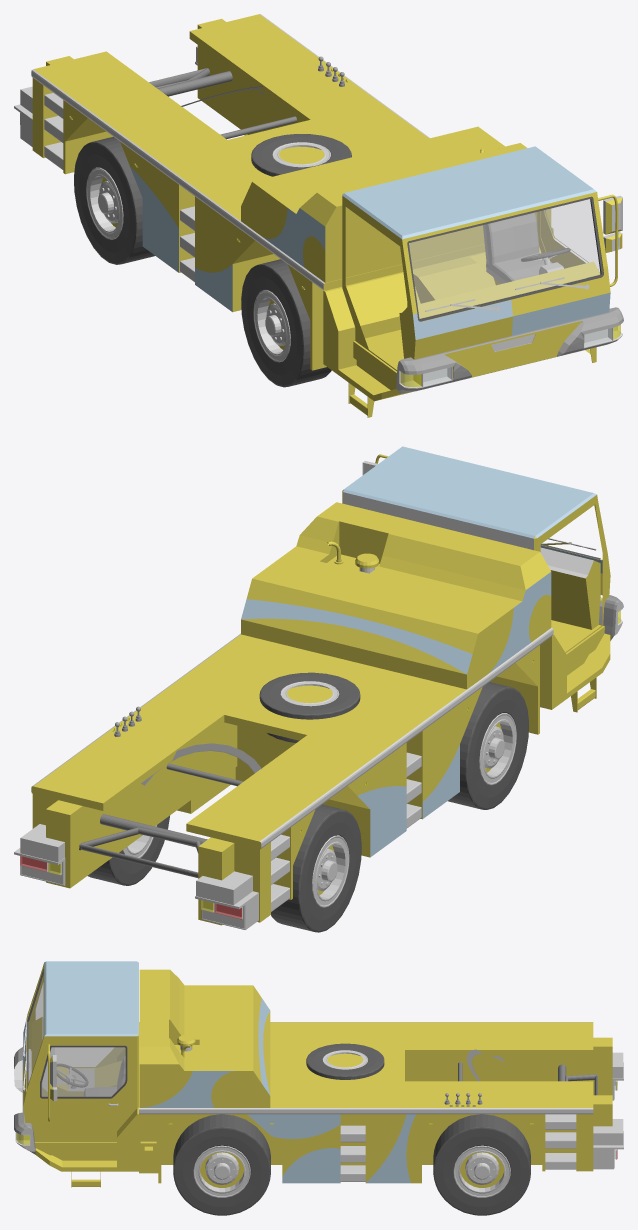
The model's file is tug.glb.
The picture shows the model from 3 angles, top to bottom: view 1: azimuth 30°, elevation 25°; view 2: azimuth 150°, elevation 25°; view 3: azimuth 270°, elevation 25°; orthographic projection. The views are drawn at different scales.
Bounding box in the file's own units: 0.7975 × 0.7037 × 2.22.
